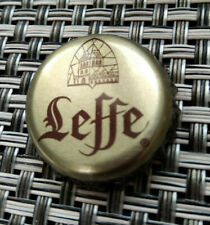leffe: (22, 32, 185, 190)
